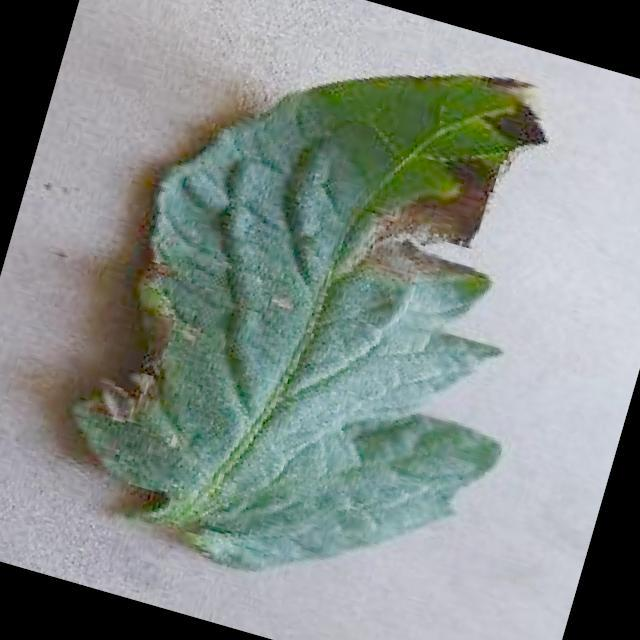Tomato Early blight leaf: (38, 0, 609, 631)
